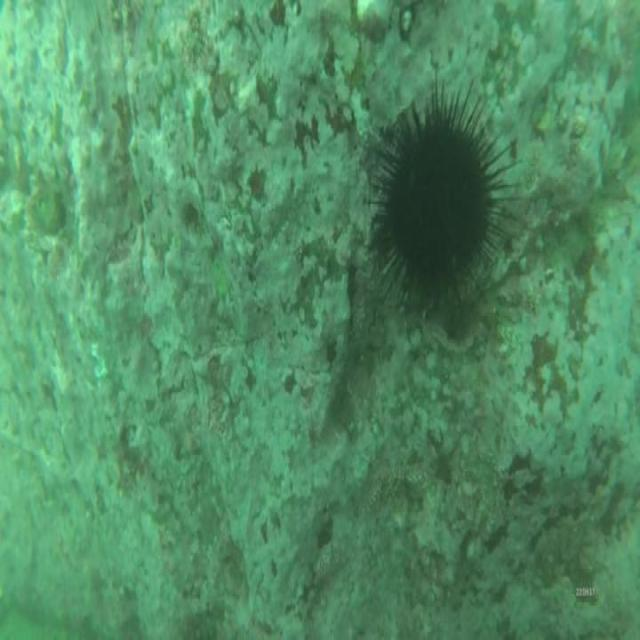echinus: (381, 109, 495, 286)
